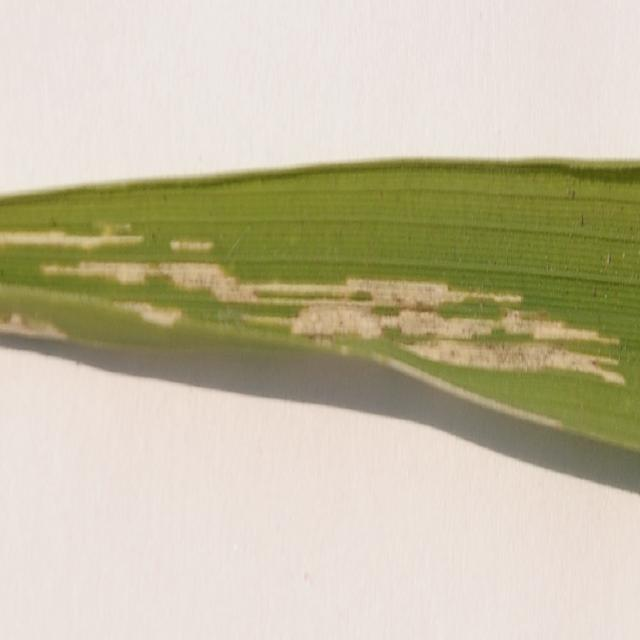leaf blight: (33, 244, 631, 404), (0, 217, 147, 252), (0, 290, 71, 353), (170, 227, 213, 257)
